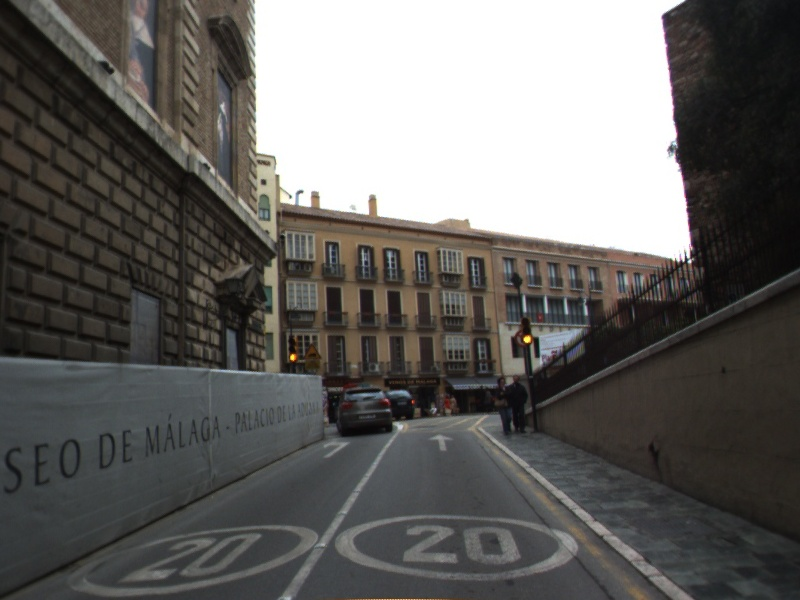LEFT: (320, 438, 353, 460)
STRAIGHT: (426, 431, 457, 453)
